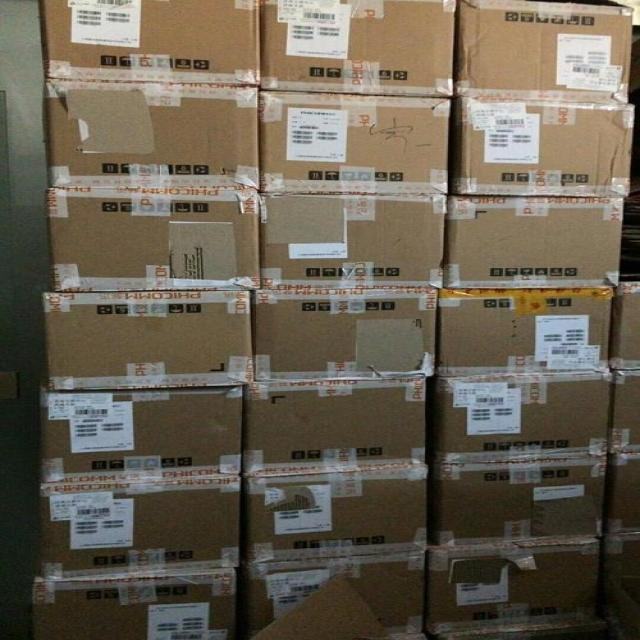box: (47, 75, 259, 189), (41, 373, 244, 485), (46, 186, 261, 291), (41, 474, 241, 580), (43, 290, 255, 389), (257, 90, 452, 195), (257, 0, 455, 97), (240, 464, 427, 566), (453, 1, 635, 105), (241, 376, 426, 478), (448, 98, 636, 198), (41, 1, 260, 86), (260, 194, 448, 290), (248, 288, 438, 382), (235, 547, 428, 639), (423, 537, 601, 633), (425, 372, 610, 464), (426, 456, 609, 547), (443, 196, 624, 287), (436, 285, 615, 377), (33, 567, 237, 639), (596, 531, 639, 622), (604, 451, 639, 536), (609, 369, 639, 455), (610, 282, 639, 370)
